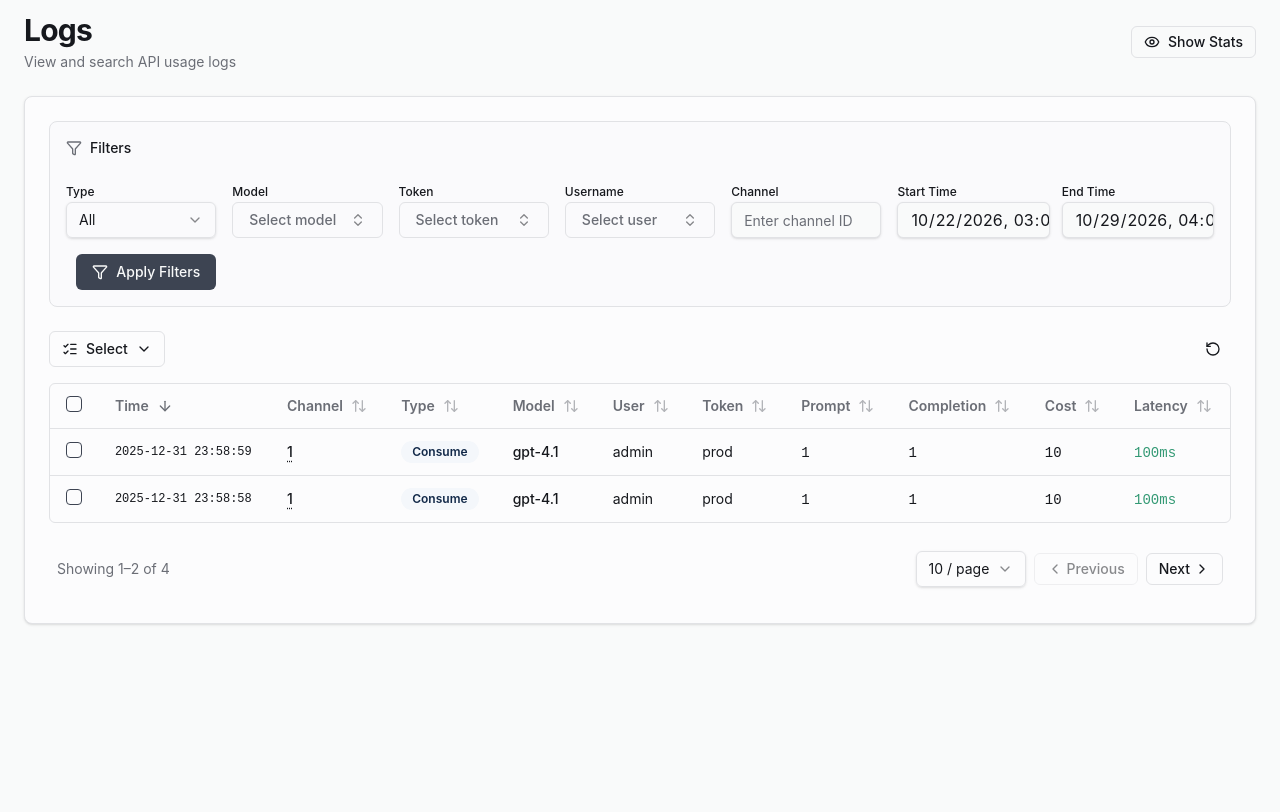
it: LogsPage keyset pagination › lists through the cursor route and shows the keyset pager
This screenshot has width=1280, height=812.
Expected: the text "Showing 1–2 of 4" is shown, x1=57 y1=559 x2=170 y2=579
Expected: the button "Previous" is disabled, x1=1034 y1=553 x2=1138 y2=585
Step 1. Click the button "Next" → (1184, 569), box x1=1146 y1=553 x2=1223 y2=585
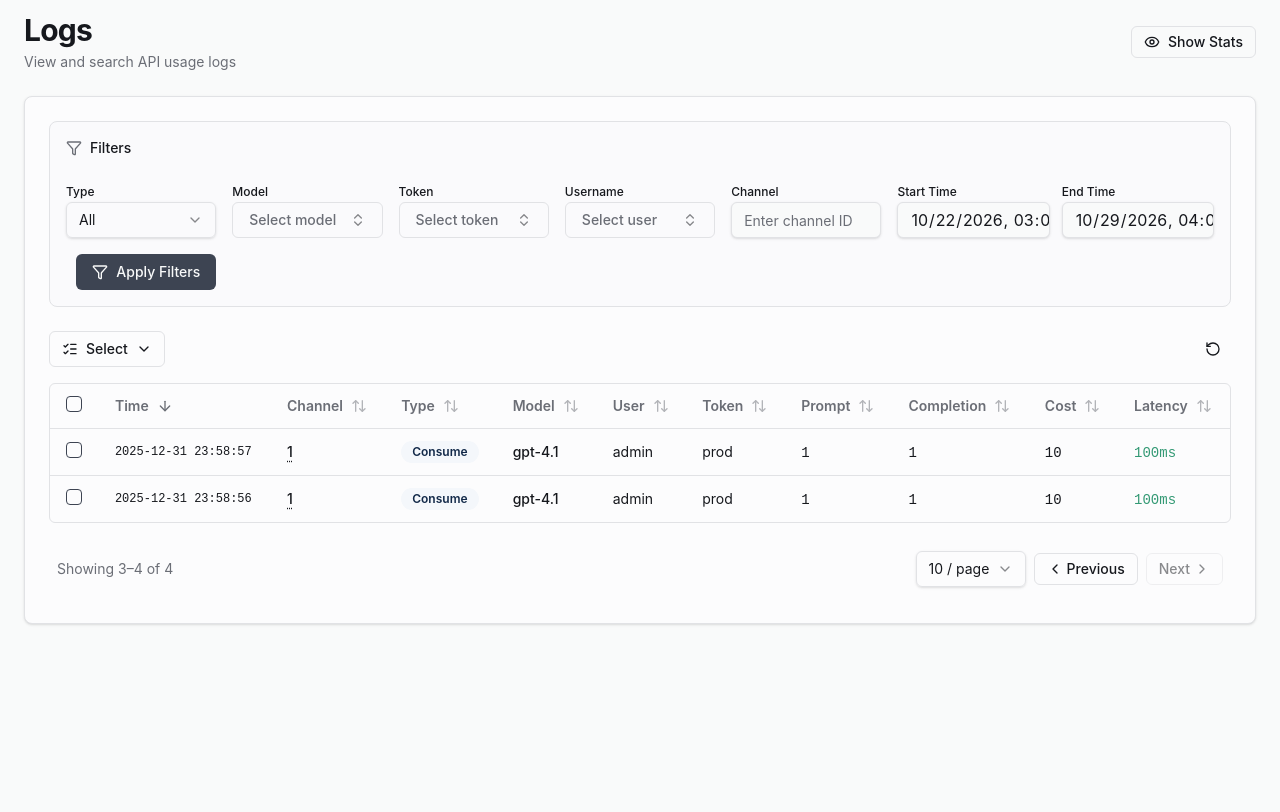
Now the text "Showing 3–4 of 4" is shown, box x1=57 y1=559 x2=173 y2=579
Now the button "Next" is disabled, box x1=1146 y1=553 x2=1223 y2=585
Now the button "Previous" is enabled, box x1=1034 y1=553 x2=1138 y2=585
